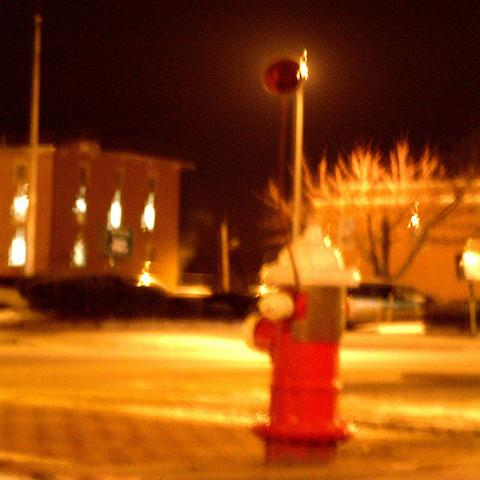car: (346, 283, 470, 325)
